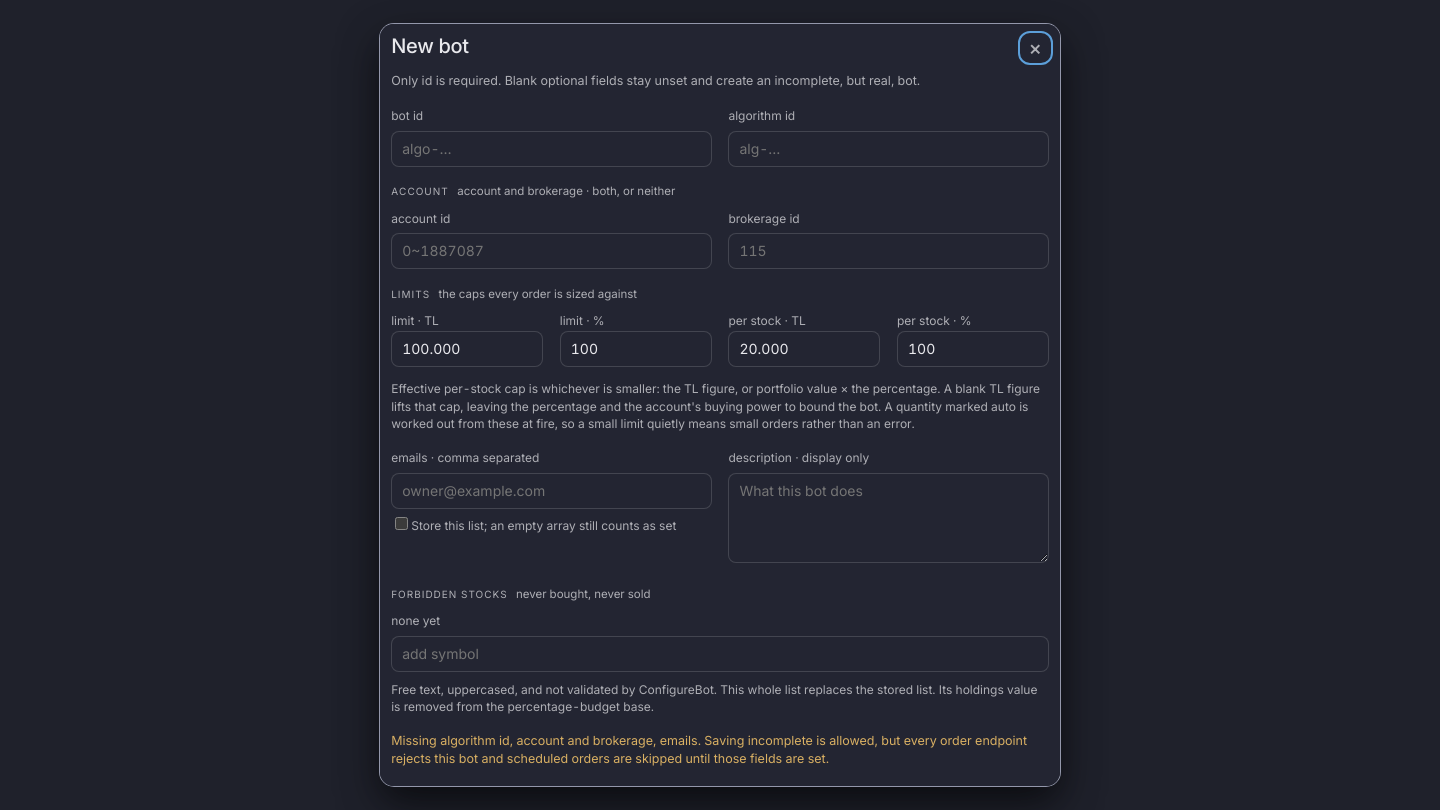
Test case: bot ConfigureBot dialogs › blocks Add when an orphan queued basket still owns the id
In the field labelled "bot id": {"x": 551, "y": 149} [391,131,712,167], type "fresh"
(page scrolled)
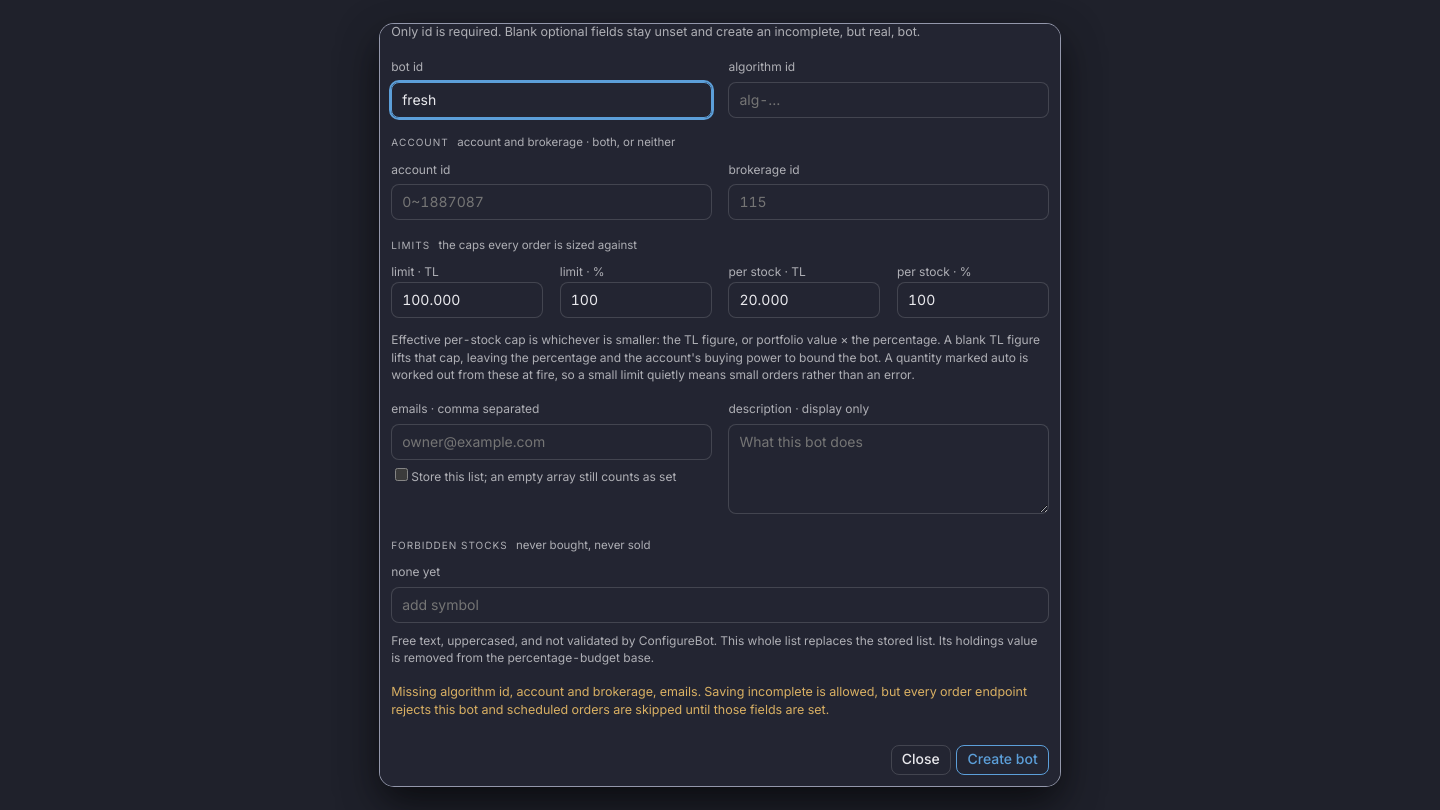
Click the button "Create bot": {"x": 1003, "y": 760} [956,745,1049,775]
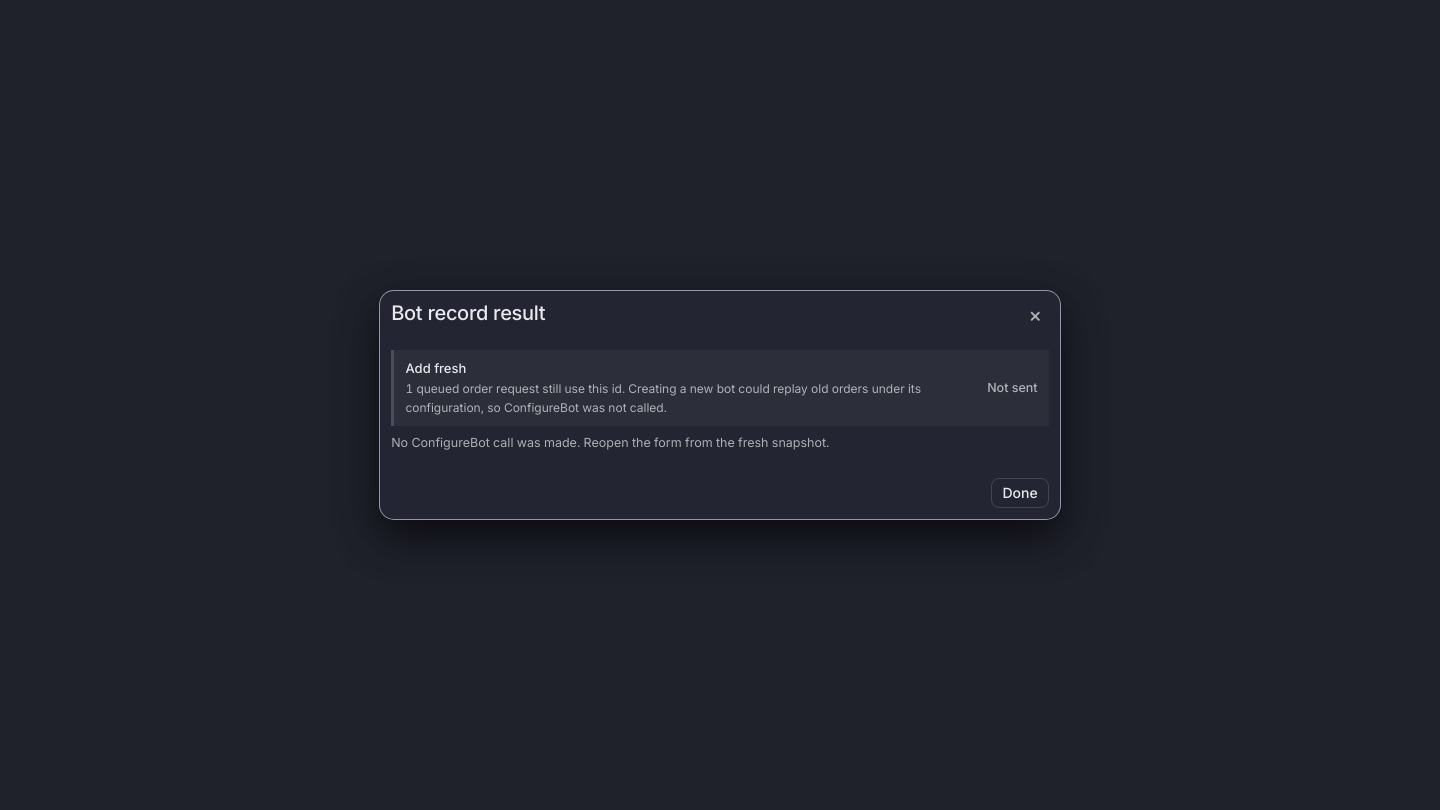
Check: the text "could replay old orders" is shown, box [405,381,921,415]
